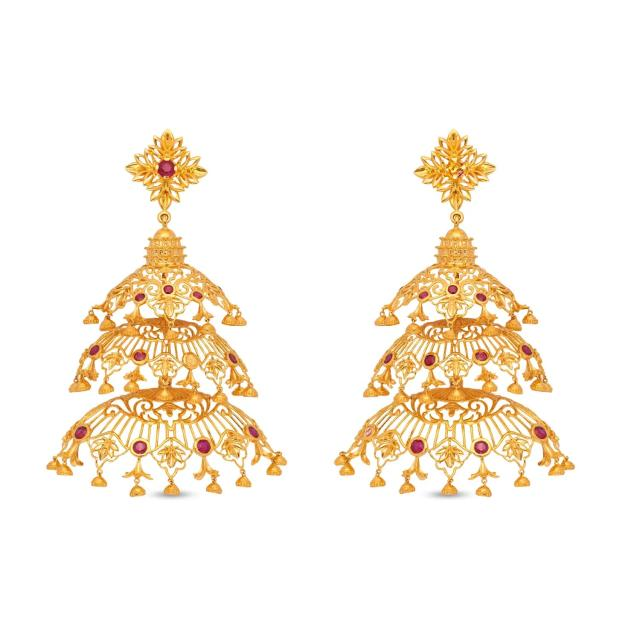missing gem: (447, 160, 463, 176), (186, 353, 197, 366), (363, 427, 372, 436)
